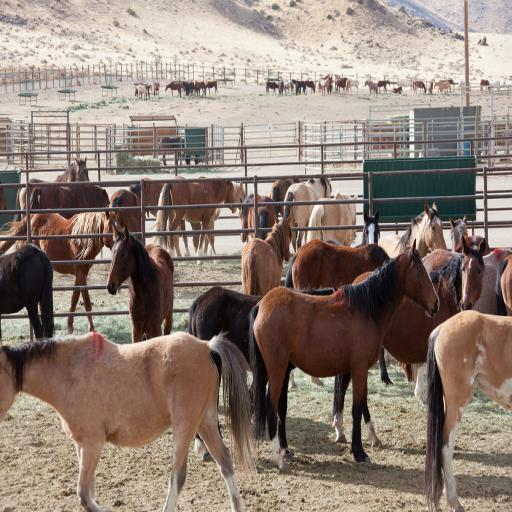horse: (0, 154, 512, 512), (163, 78, 219, 98), (264, 75, 314, 96), (318, 70, 358, 94), (158, 138, 192, 166), (133, 82, 153, 100), (433, 78, 451, 96), (410, 76, 427, 94), (364, 78, 378, 96), (478, 78, 491, 93), (151, 80, 161, 98), (377, 80, 390, 90), (392, 84, 404, 94), (491, 78, 501, 90), (426, 81, 434, 95)
